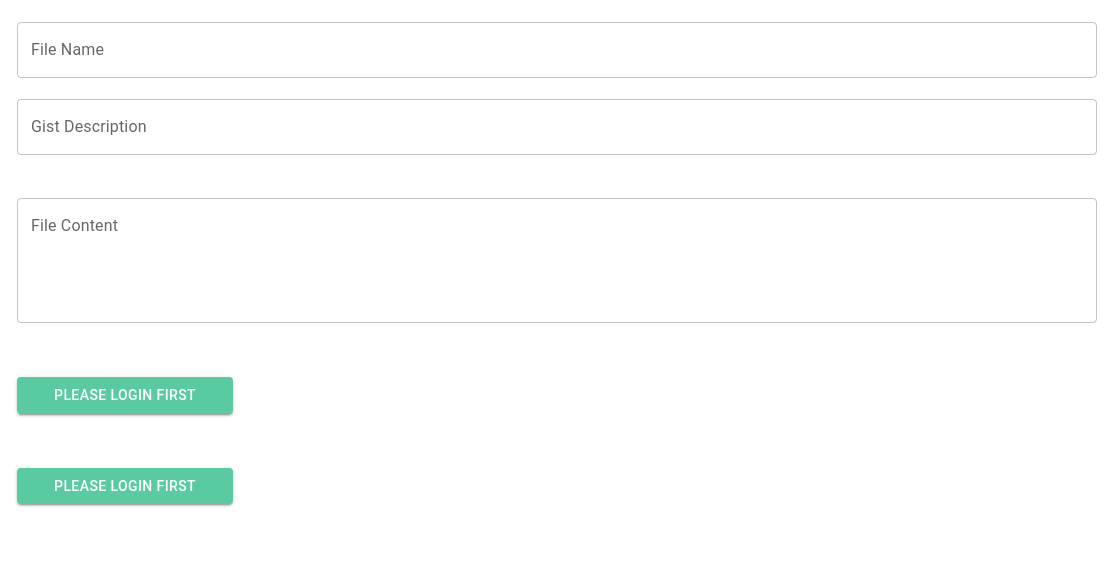
Test case: Gist should be added successfully
entering value for gist file
Type "1212" into the text box with test id "file-name" at (557, 50), box [31,38,1083,61]
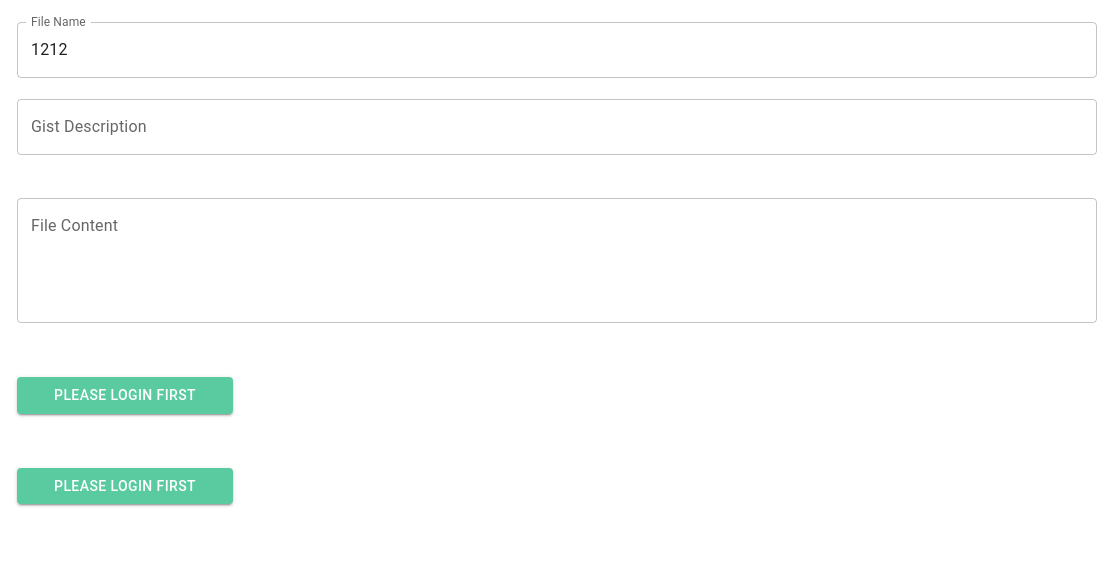
Type "entered Content" into the text box with test id "file-content" at (557, 261), box [31,215,1083,307]
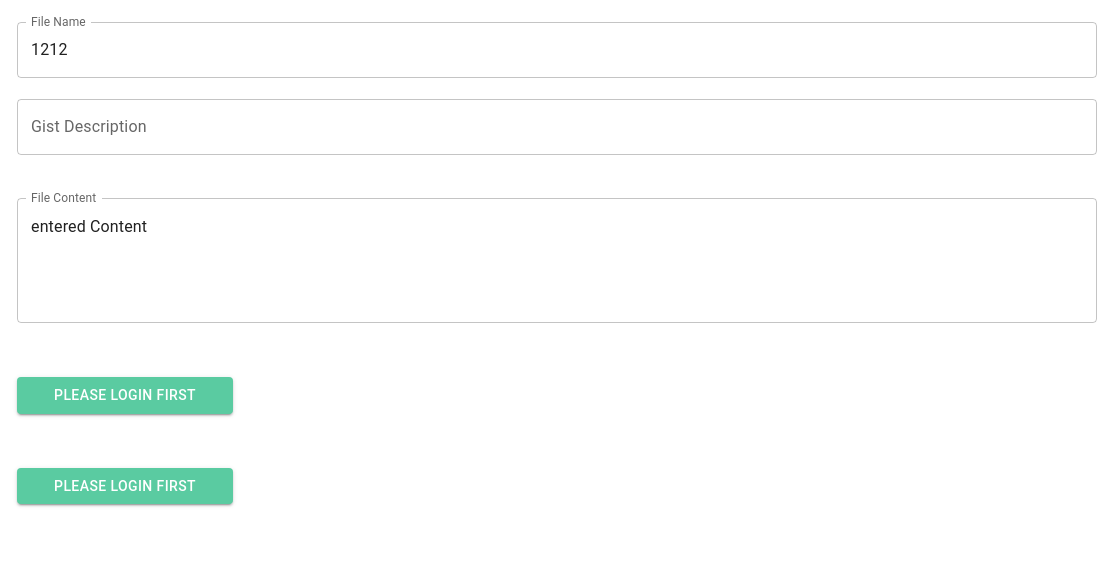
Type "1212" into the text box with test id "gist-description" at (557, 127), box [31,116,1083,139]
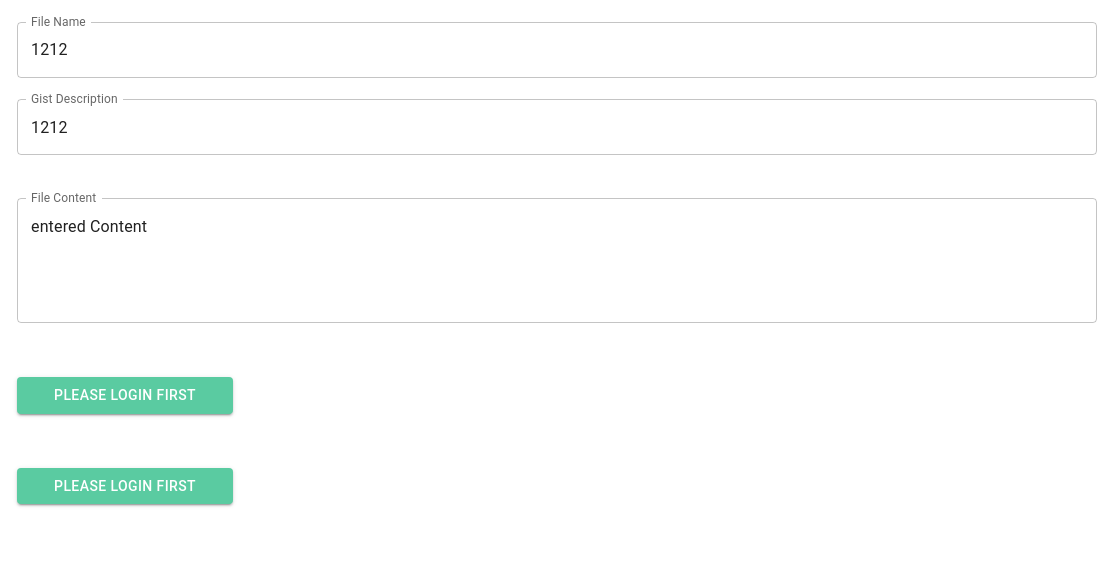
adding one file to gist
Click the button with test id "add-file" at (125, 396), box [17,377,233,414]
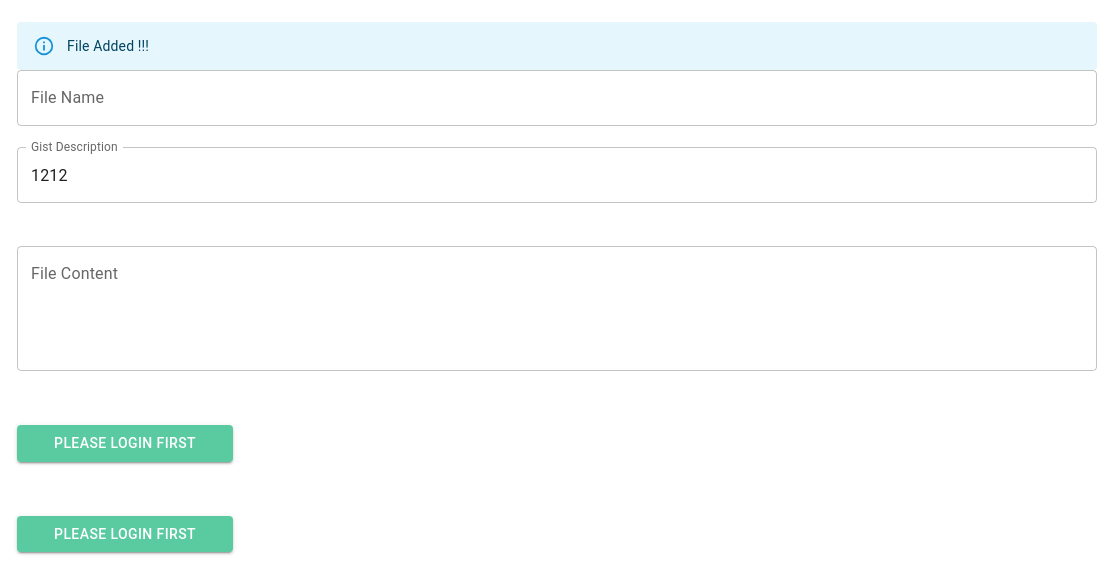
Expected: the element with test id "file-added" is shown, [17,22,1097,70]
adding gist
Click the button with test id "add-gist" at (125, 534), box [17,516,233,552]
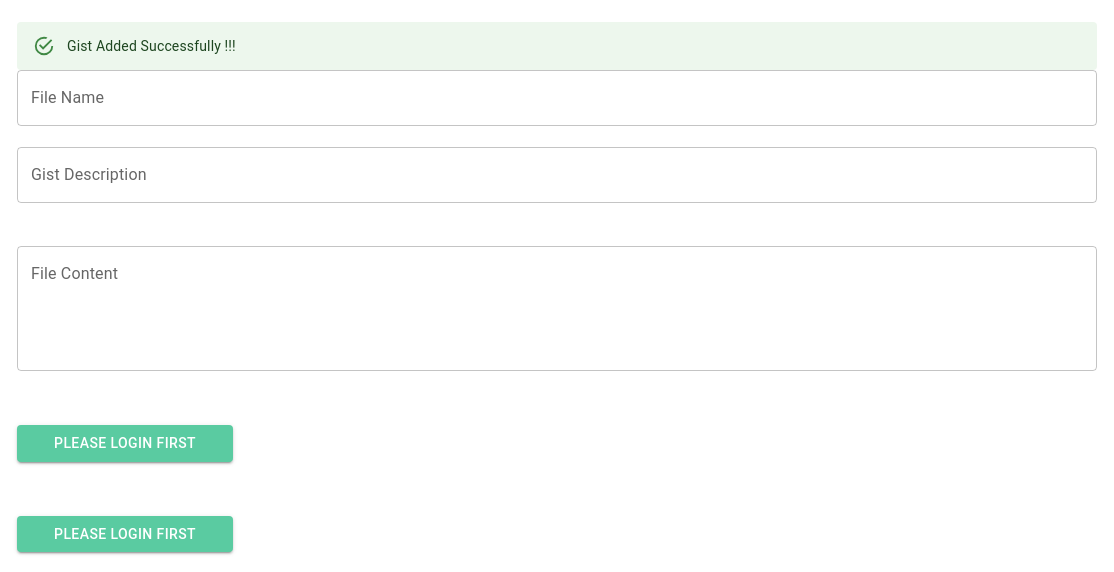
Expected: the element with test id "gist-added" is shown, [17,22,1097,70]
